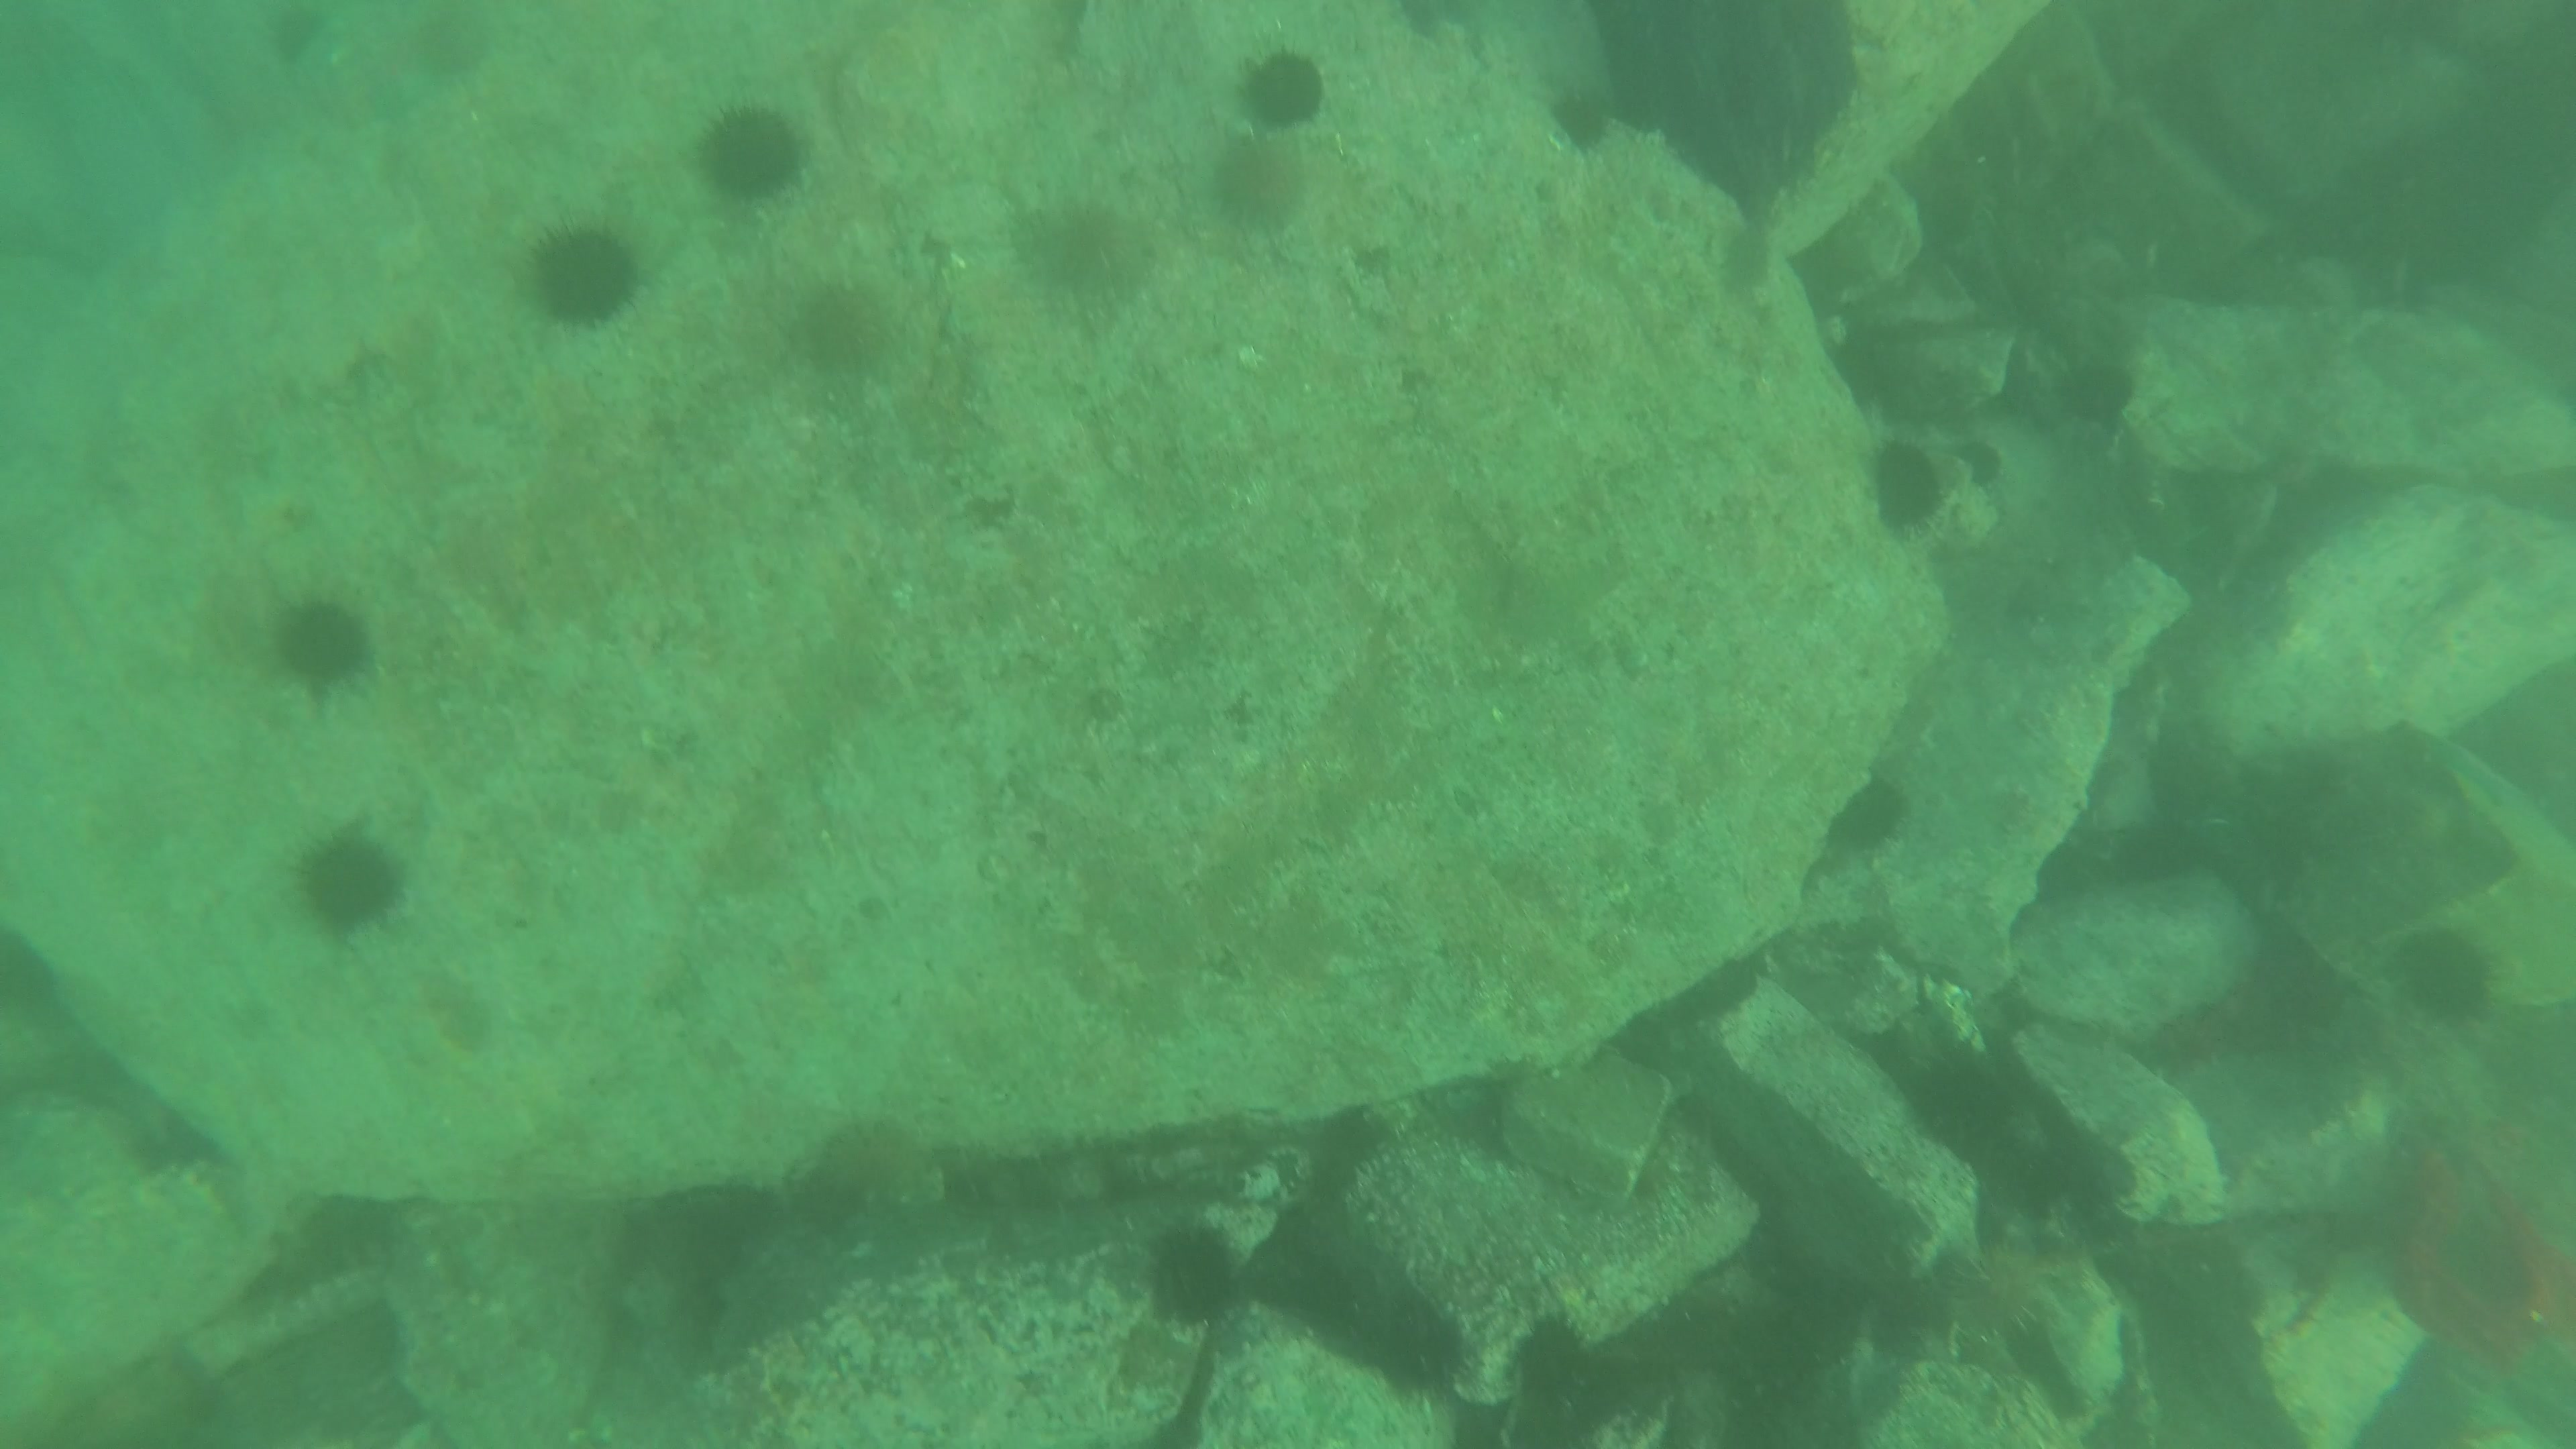echinus: (529, 214, 639, 326), (1021, 188, 1131, 294), (272, 591, 379, 701), (1918, 1047, 2026, 1146), (308, 835, 410, 934), (699, 106, 805, 198), (2401, 924, 2498, 1016), (1380, 1297, 1467, 1396), (1152, 1230, 1240, 1323), (1219, 129, 1307, 223), (807, 272, 888, 372), (1874, 426, 1948, 531), (1238, 48, 1323, 120), (1844, 775, 1914, 858), (1546, 81, 1615, 161), (2068, 357, 2137, 425)
